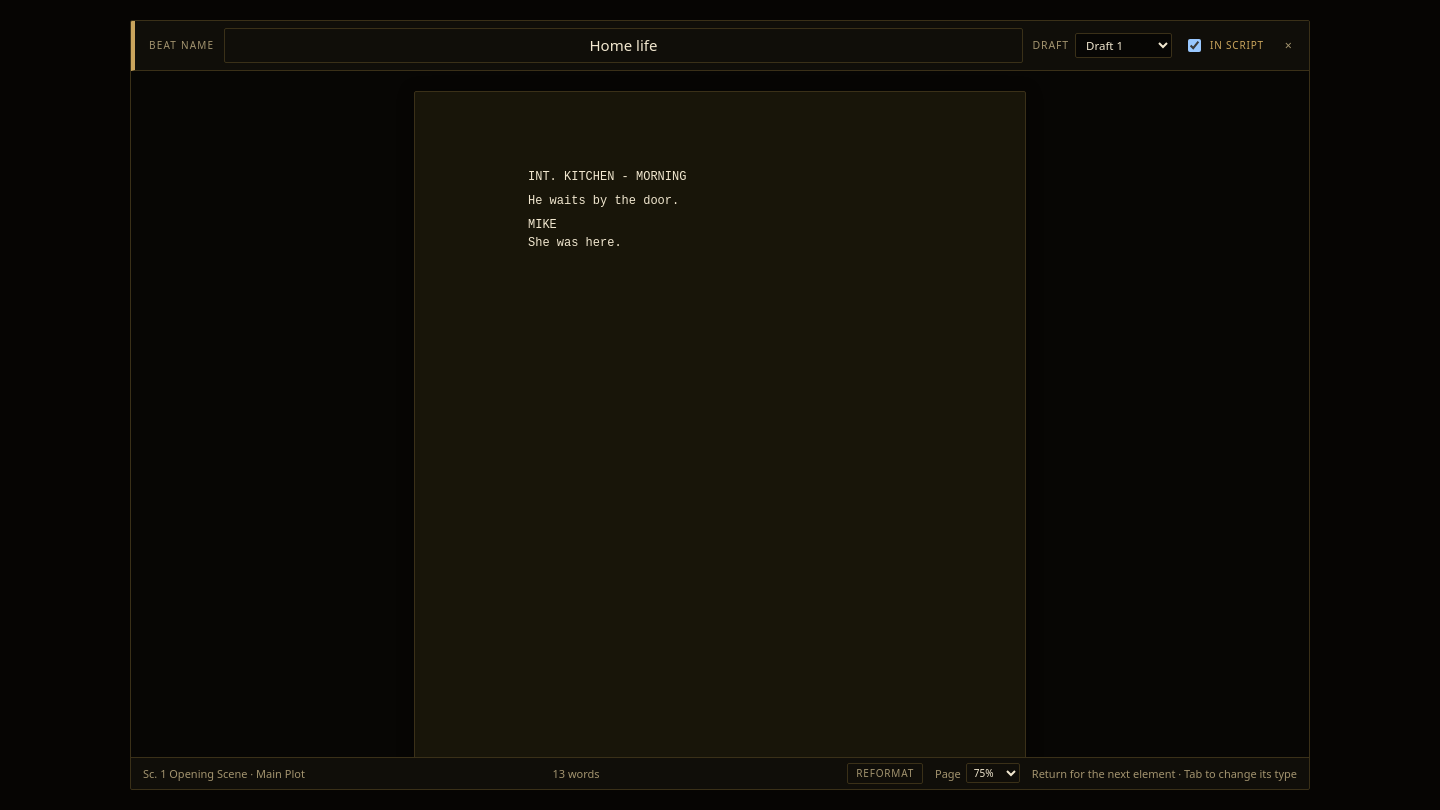
Test: the reformat tool › reads the beat’s plain lines as a script and leaves styled lines alone
Click the button "Reformat".
click(885, 773)  # box [847, 762, 923, 784]
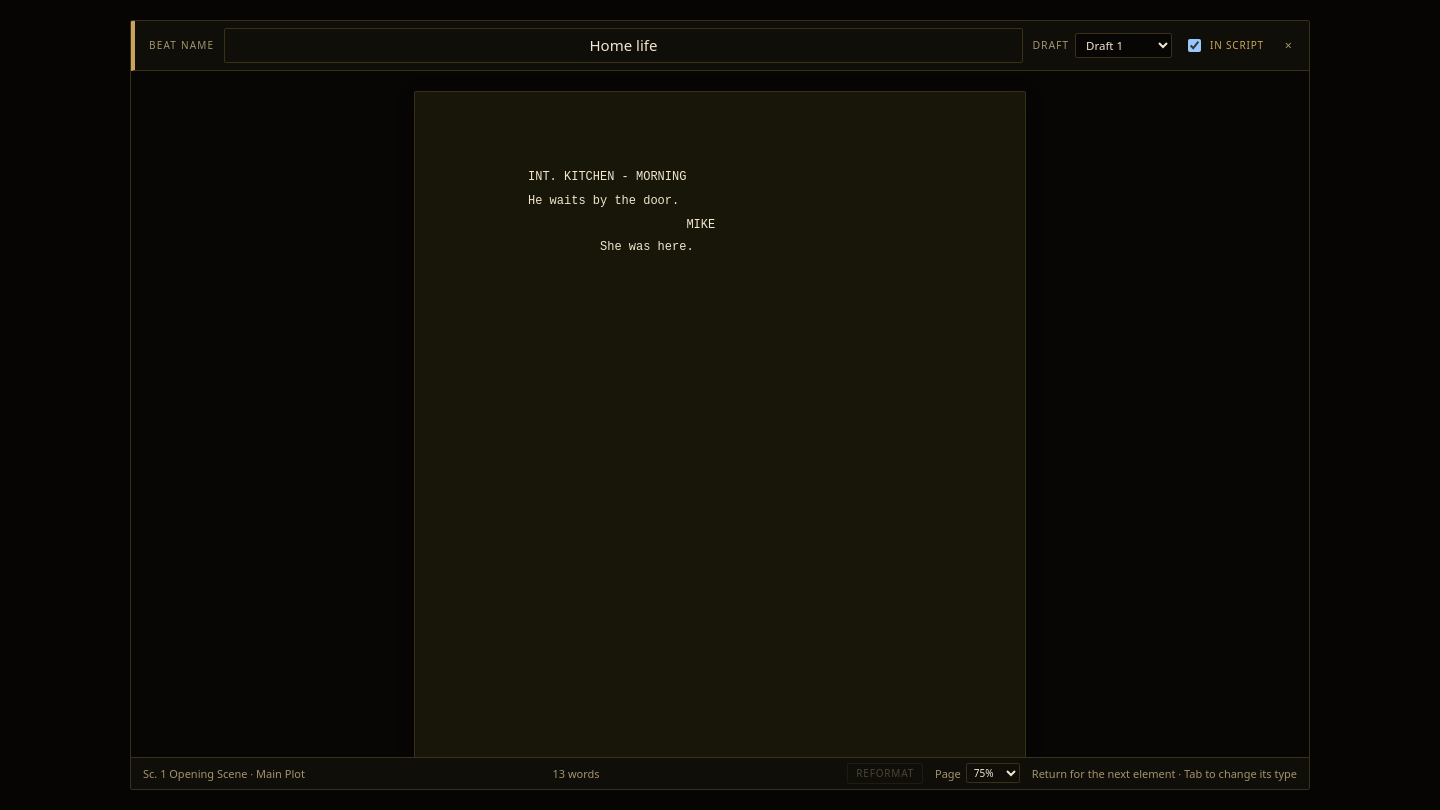
Now the button "Reformat" is disabled, box [847, 762, 923, 784]
